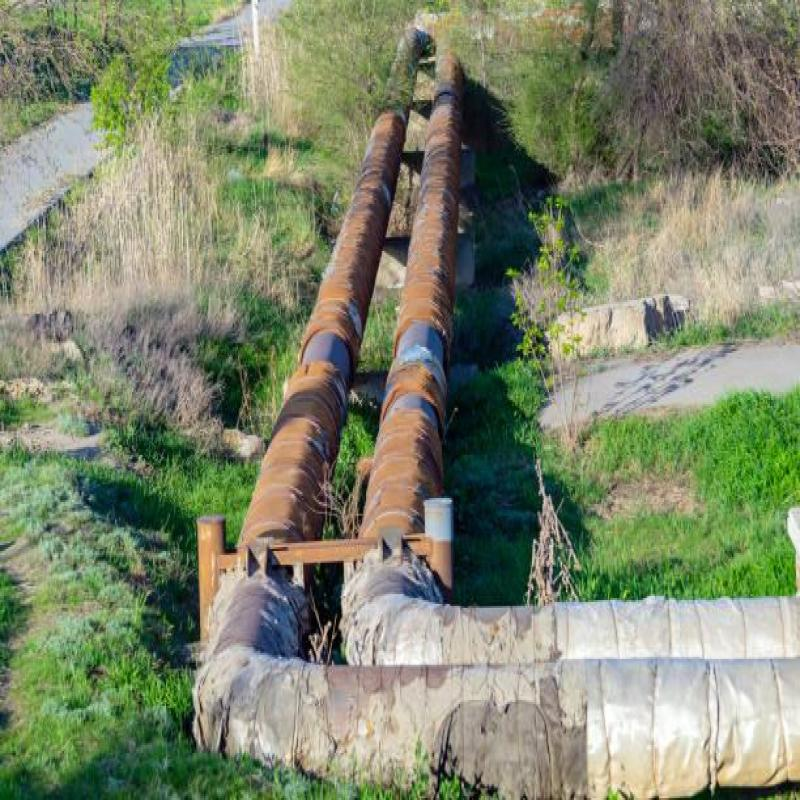corrosion: (384, 118, 458, 534), (250, 350, 352, 574)
